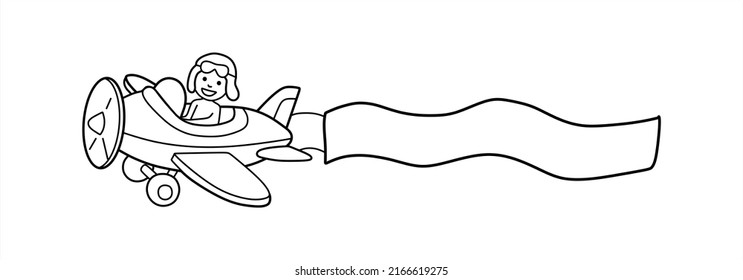airplane: (78, 70, 321, 214)
